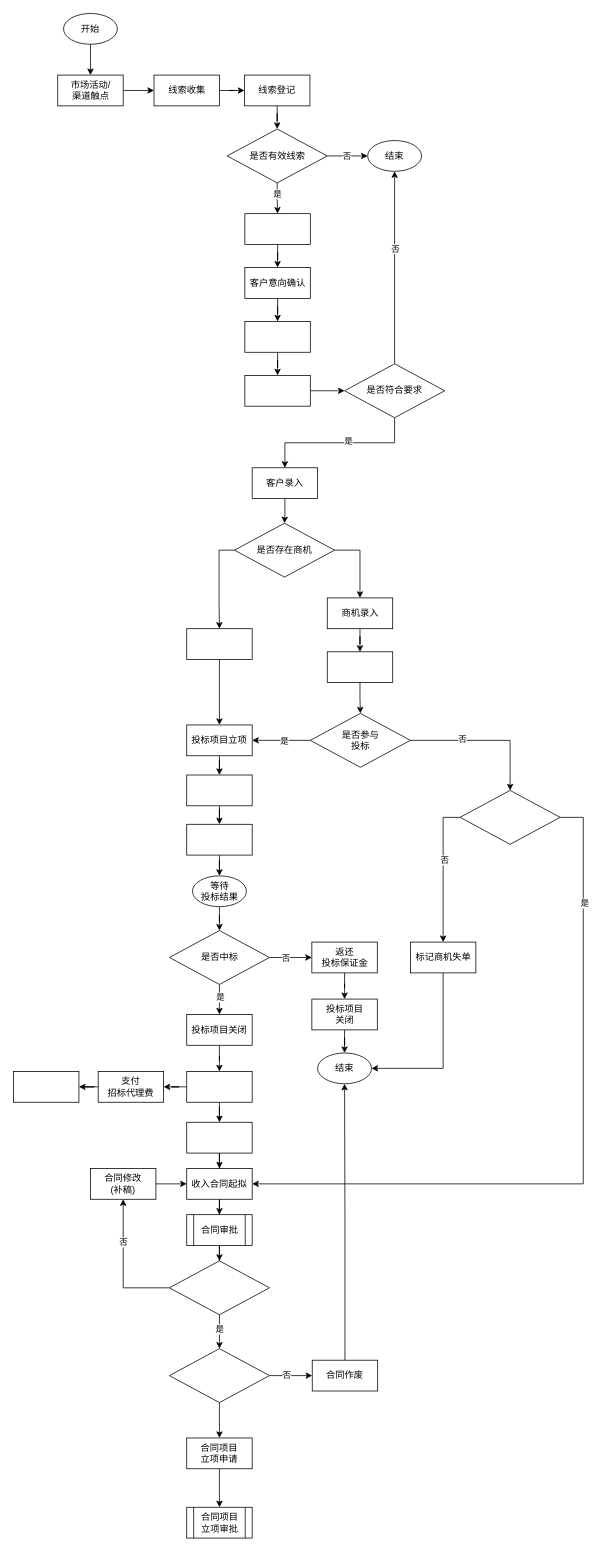
The diagram is 603 pixels wide and 1552 high, and some of its shapes have lost their labels. Here are the shapes that lost their labels. From the top down, the centre of each, then its label:
At pixel 277 228: "客户拜访".
At pixel 277 336: "系统自动查重".
At pixel 277 390: "客户准入检查".
At pixel 219 644: "独立发起 投标项目".
At pixel 359 667: "商机跟踪".
At pixel 219 790: "支付 投标文件费".
At pixel 509 817: "是否达成合作".
At pixel 219 839: "支付 投标保证金".
At pixel 46 1086: "支付 履约保证金".
At pixel 219 1086: "业务项目立项".
At pixel 219 1137: "合同商务沟通".
At pixel 219 1287: "是否通过审批".
At pixel 219 1375: "是否签署合同".
